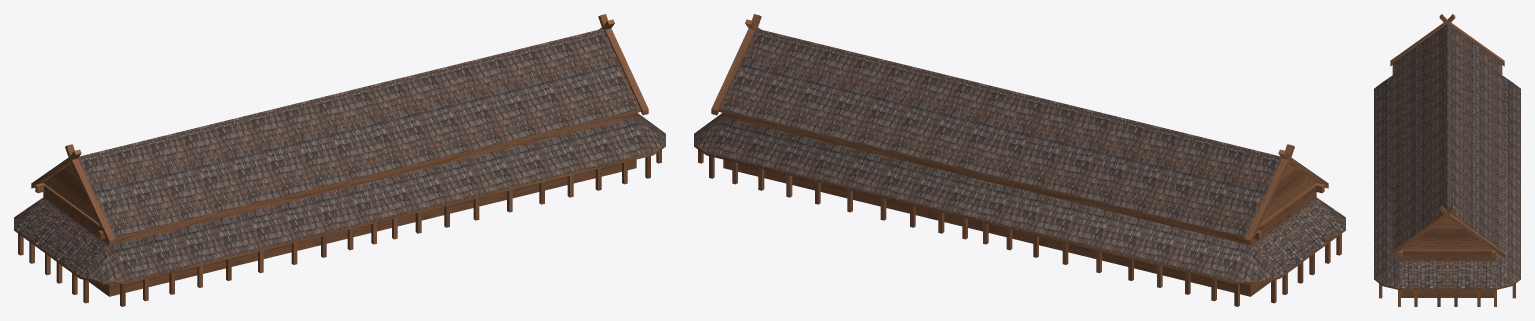
Rendered from Viking Longhouse.fbx.
3 renders of one model, left to right at view 1: azimuth 30°, elevation 25°; view 2: azimuth 150°, elevation 25°; view 3: azimuth 270°, elevation 25°, orthographic. The views are drawn at different scales.
Parts seen in each view (by area): view 1: Cube; view 2: Cube; view 3: Cube.
Boxes of the visible parts, <box> form: Cube: <box>14,14,665,306</box>; Cube: <box>694,14,1345,306</box>; Cube: <box>1374,14,1520,306</box>.
Size of the model in its own units: 6996 by 1437 by 2062.
